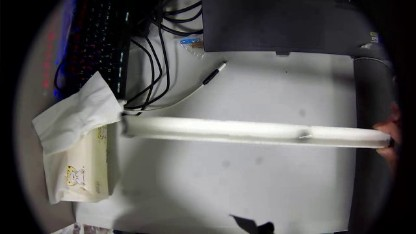gangzhu: (298, 129, 310, 138)
